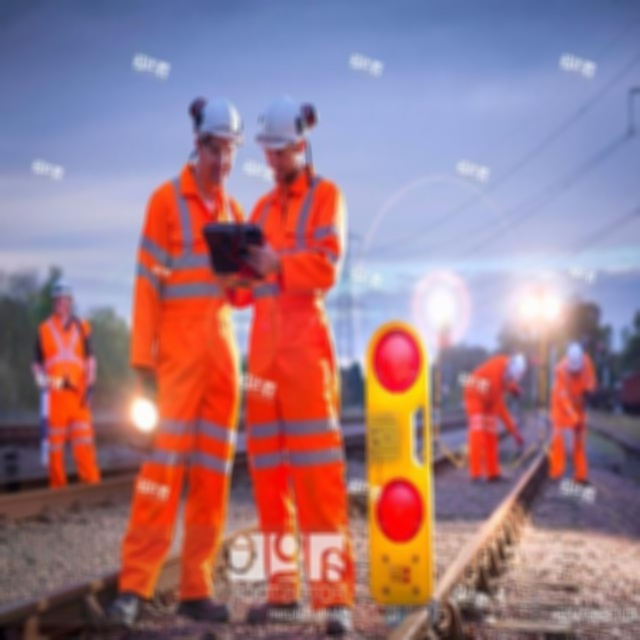Con_Casco: (259, 95, 312, 169), (193, 94, 243, 172)
Con_Chaleco: (134, 175, 238, 319), (247, 175, 336, 329), (42, 314, 87, 399), (462, 356, 506, 422)
